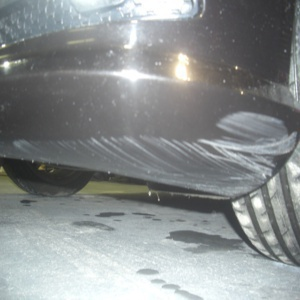bumper_scratch: (10, 101, 294, 197)
